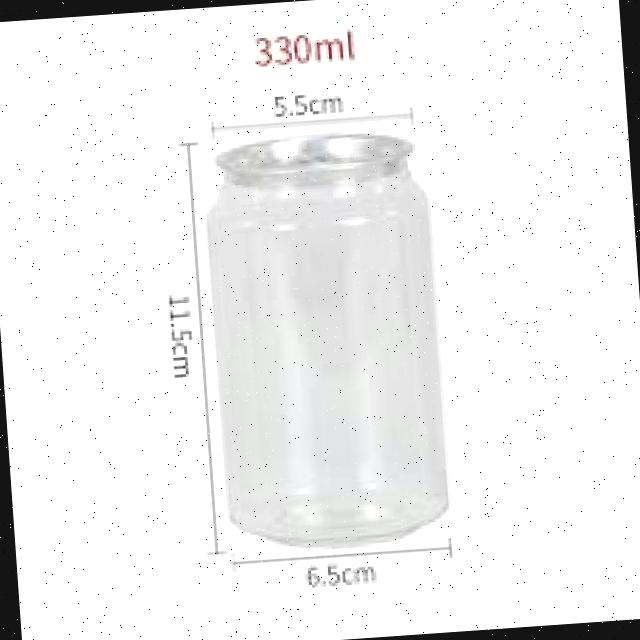bottle: (176, 93, 470, 560)
